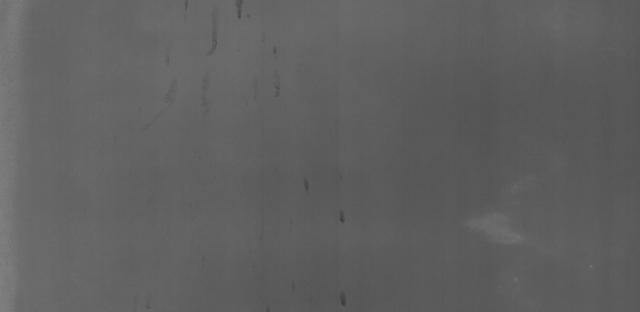water_spot: (180, 2, 251, 74), (301, 160, 348, 234), (326, 285, 364, 310)
